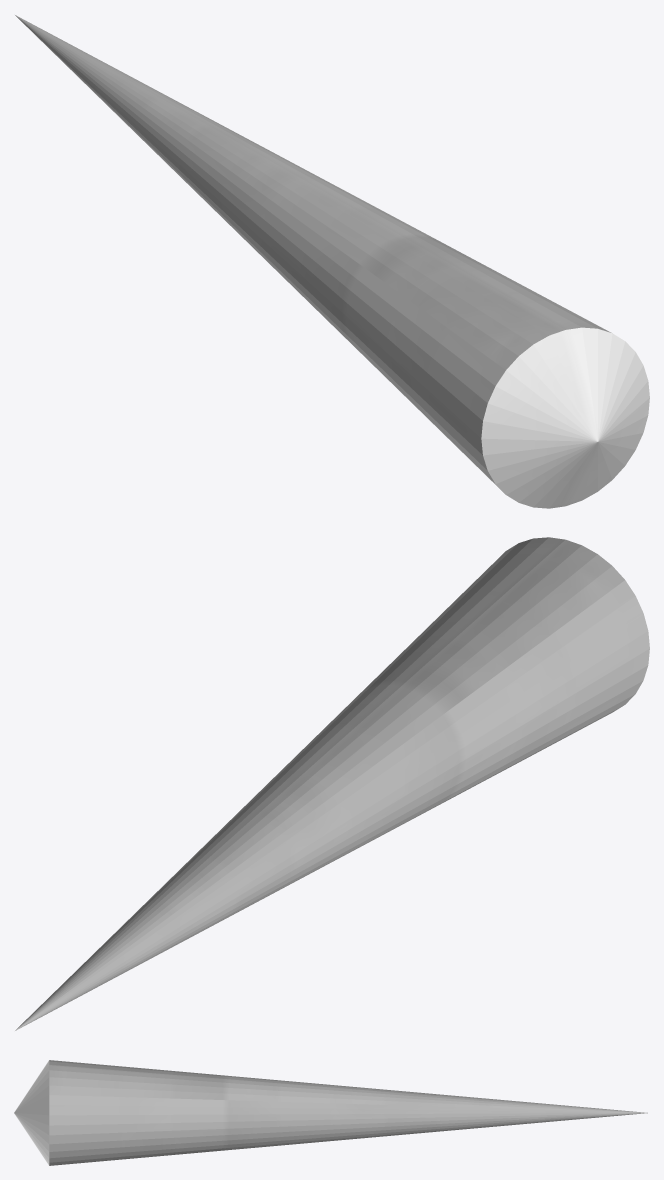
The model's file is scp420j.fbx.
3 views of the same model, one above another, from view 1: azimuth 30°, elevation 25°; view 2: azimuth 150°, elevation 25°; view 3: azimuth 270°, elevation 25° (orthographic). The views are drawn at different scales.
Parts seen in each view (by area): view 1: Scene_Root; view 2: Scene_Root; view 3: Scene_Root.
Part boxes in pixels (x1,y1,x2,y2): Scene_Root: (15,15,649,508); Scene_Root: (15,537,649,1030); Scene_Root: (14,1060,647,1165).
Bounding box in the file's own units: 32 × 32 × 192.
